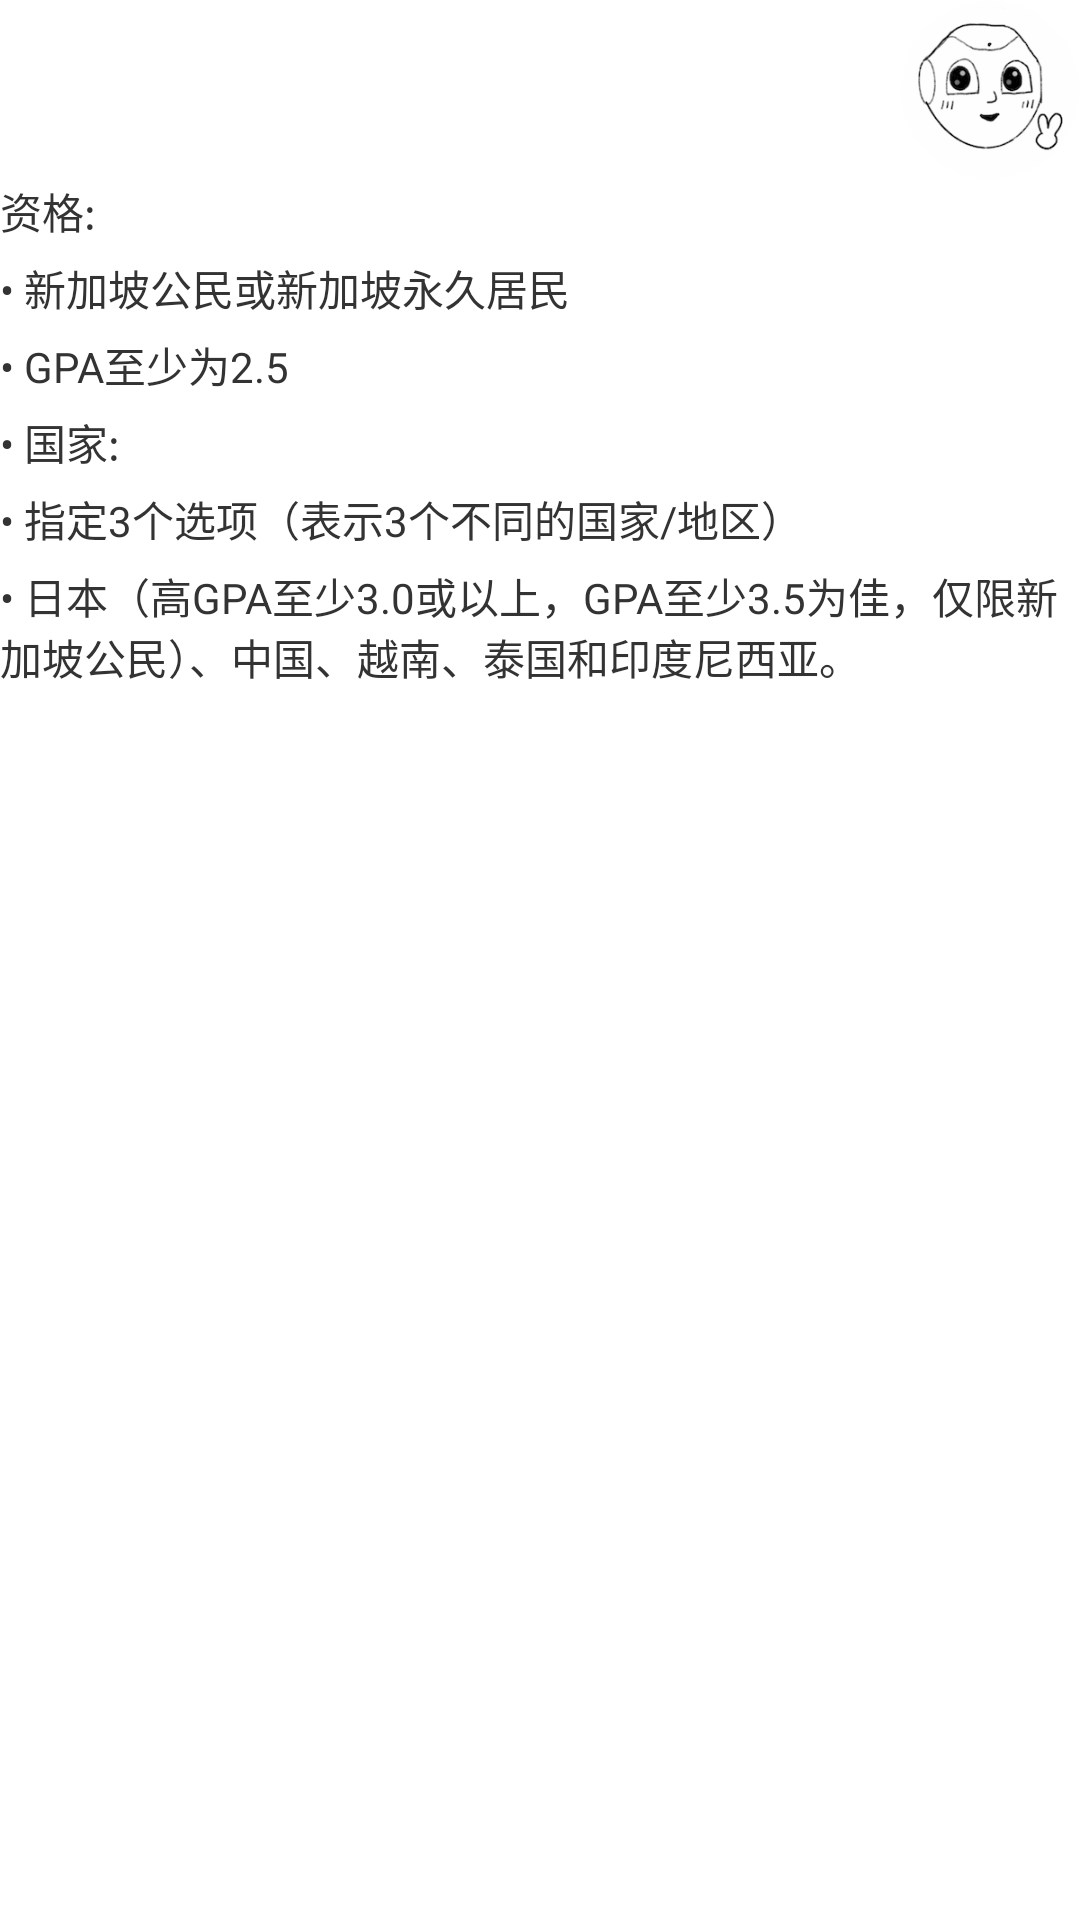

Icon click points for this 1080px×1920px phone screenshot, format (x,y):
robot: (990,86)
